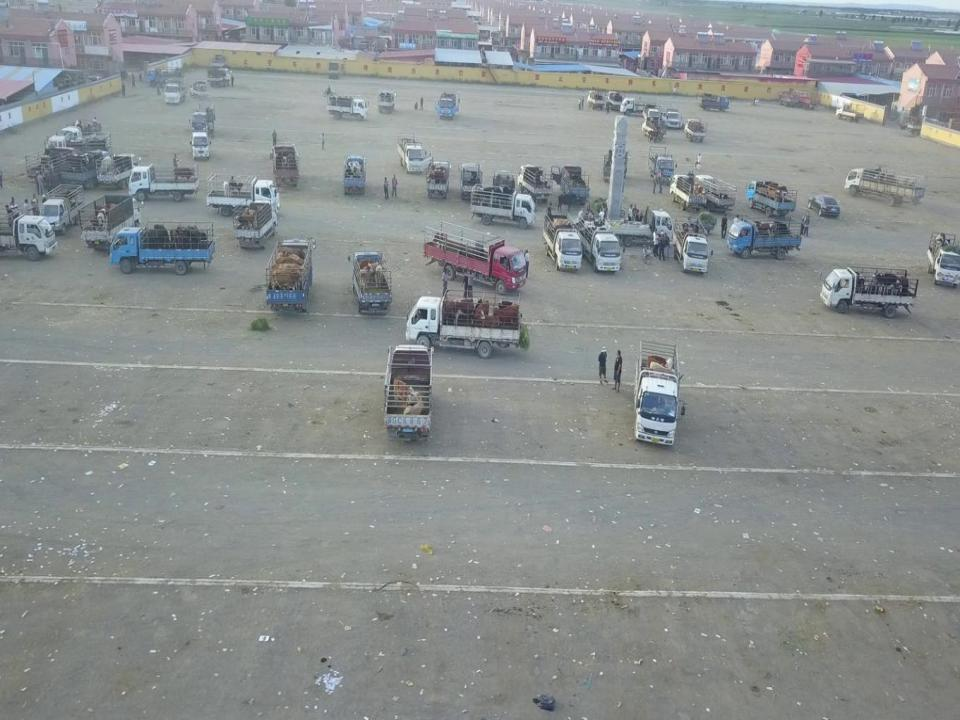car: (807, 193, 840, 218)
truck: (405, 287, 522, 360), (423, 220, 527, 296), (633, 330, 686, 446), (109, 219, 216, 276), (819, 264, 919, 319), (383, 343, 435, 443), (78, 192, 146, 254), (265, 234, 316, 312), (843, 164, 927, 206), (726, 214, 802, 260), (205, 172, 281, 218), (470, 182, 538, 229), (0, 208, 59, 261), (604, 204, 674, 248), (348, 248, 392, 316), (578, 213, 626, 273), (128, 162, 200, 201), (671, 214, 714, 274), (37, 183, 85, 236), (231, 197, 278, 249), (542, 211, 582, 270), (59, 147, 112, 190), (24, 145, 77, 187), (744, 178, 798, 217), (43, 131, 113, 161), (926, 230, 960, 289), (692, 172, 738, 213), (550, 161, 590, 206), (95, 153, 142, 189), (396, 130, 432, 175), (668, 173, 708, 213), (515, 163, 552, 203), (269, 142, 299, 187), (326, 92, 370, 121), (55, 118, 97, 148), (647, 144, 678, 184), (425, 158, 452, 200), (342, 153, 367, 195), (458, 161, 484, 200), (144, 65, 186, 87), (620, 95, 660, 116), (434, 90, 460, 121), (905, 115, 942, 136), (696, 91, 732, 112), (788, 88, 821, 110), (658, 102, 682, 131), (491, 169, 515, 198), (835, 99, 865, 122), (164, 76, 188, 104), (683, 117, 708, 142), (642, 115, 667, 139), (206, 67, 232, 88), (377, 86, 396, 114), (606, 89, 626, 112), (777, 88, 799, 108), (642, 103, 659, 126), (586, 89, 605, 109), (189, 80, 209, 99), (210, 52, 228, 70), (327, 59, 340, 80)
